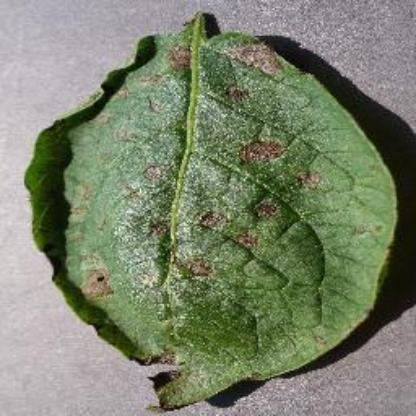Early-Blight: (21, 4, 414, 416)
